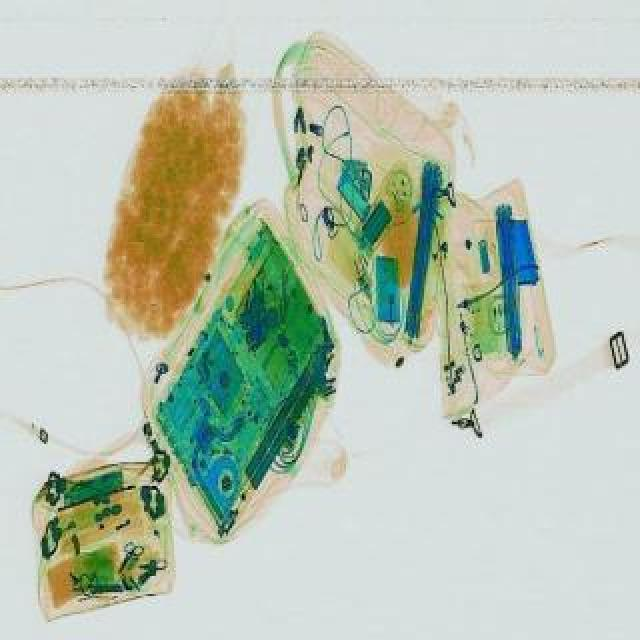pliers: (112, 538, 146, 578)
